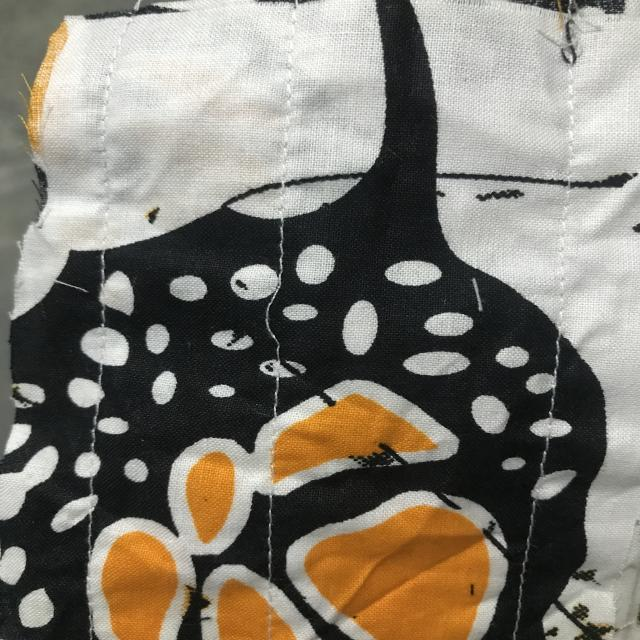good: (260, 497, 288, 568)
skip: (227, 265, 312, 358)
